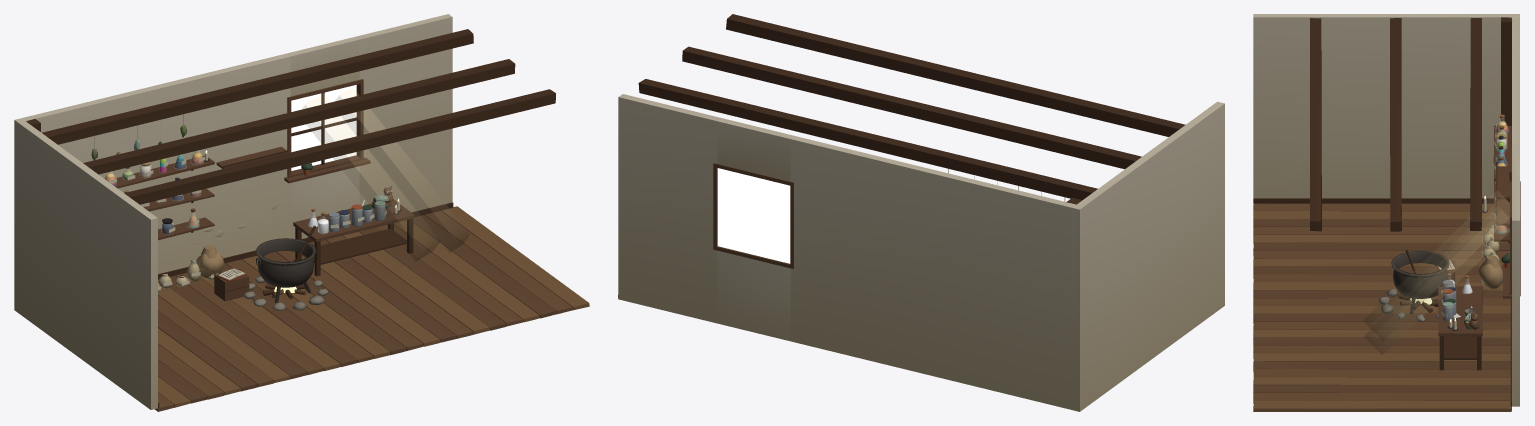
Rendered from workshop.glb.
The picture shows the model from 3 angles, left to right: view 1: azimuth 30°, elevation 25°; view 2: azimuth 150°, elevation 25°; view 3: azimuth 270°, elevation 25°; orthographic projection. The views are drawn at different scales.
Parts seen in each view (by area): view 1: room, shaft, bench, window-light, window, cauldron, shelves, fire, herbs, book, bottle-shelf; view 2: room, window-light, window; view 3: room, shaft, bench, cauldron, bottle-shelf, shelves, fire, window, herbs.
Boxes of the visible parts, <box> form: room: <box>14,14,589,411</box>; shaft: <box>302,87,469,261</box>; bench: <box>293,195,415,276</box>; window-light: <box>291,85,356,170</box>; window: <box>284,79,370,183</box>; cauldron: <box>256,238,315,302</box>; shelves: <box>114,155,214,240</box>; fire: <box>243,276,329,310</box>; herbs: <box>71,114,224,277</box>; book: <box>214,268,249,301</box>; bottle-shelf: <box>216,146,288,168</box>; room: <box>618,14,1224,411</box>; window-light: <box>717,168,790,263</box>; window: <box>713,163,793,268</box>; room: <box>1253,14,1519,411</box>; shaft: <box>1363,191,1509,354</box>; bench: <box>1438,286,1482,370</box>; cauldron: <box>1391,250,1449,314</box>; bottle-shelf: <box>1496,165,1511,228</box>; shelves: <box>1493,125,1511,243</box>; fire: <box>1379,288,1438,322</box>; window: <box>1501,181,1520,298</box>; herbs: <box>1478,255,1502,289</box>.
Size of the model in its own units: 11.1 by 4.69 by 6.01.
